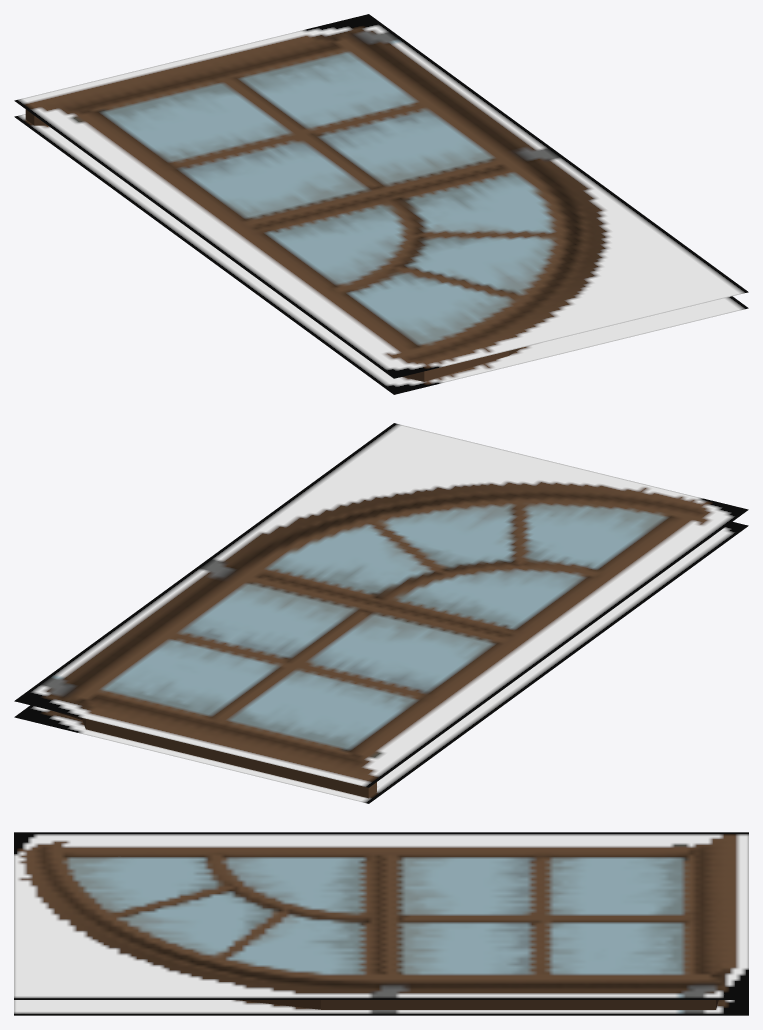
The model's file is pz_native_fixtures_windows_wood_3_frame.obj.
3 views of the same model, one above another, from view 1: azimuth 30°, elevation 25°; view 2: azimuth 150°, elevation 25°; view 3: azimuth 270°, elevation 25° (orthographic). The views are drawn at different scales.
Visible parts, largest first — view 1: pz_native_fixtures_windows_wood_3_frame; view 2: pz_native_fixtures_windows_wood_3_frame; view 3: pz_native_fixtures_windows_wood_3_frame.
Part boxes in pixels (x1,y1,x2,y2): pz_native_fixtures_windows_wood_3_frame: [14, 14, 748, 394]; pz_native_fixtures_windows_wood_3_frame: [14, 423, 748, 803]; pz_native_fixtures_windows_wood_3_frame: [14, 832, 748, 1015].
Size of the model in its own units: 0.9219 by 0.04 by 1.71.
1 material, 1 textured.
